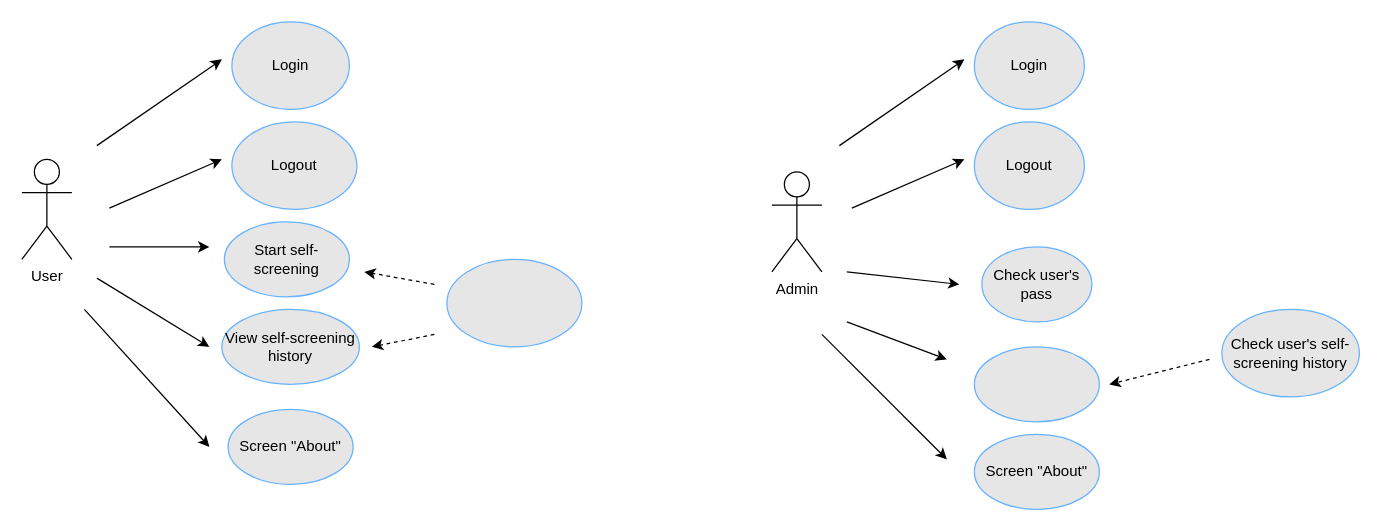
The diagram is 1381 pixels wide and 531 high, and some of its shapes have lost their labels. Here are the shapes that lost their labels. From the top down, the centre of each, then its label:
At (x=514, y=302): "Share/download .pdf report with results".
At (x=1036, y=384): "Search user by Username".
